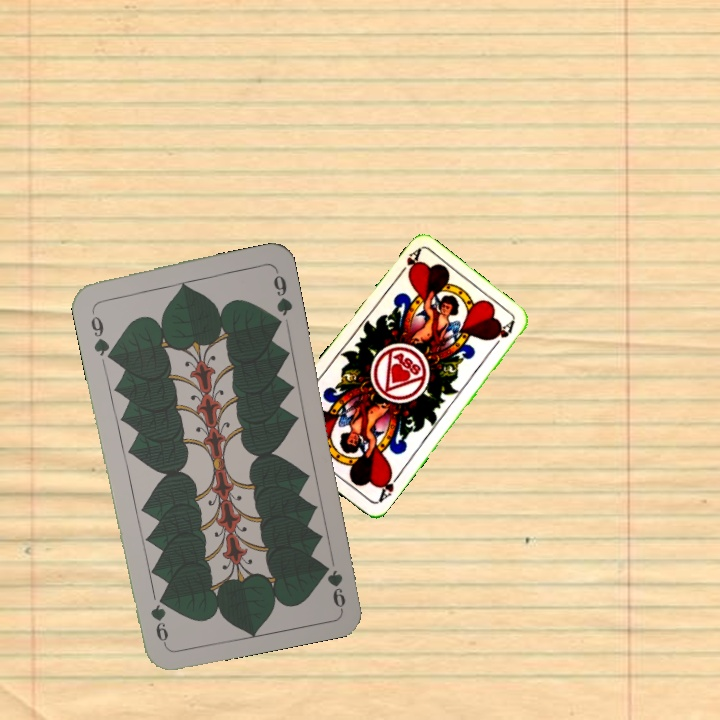G9: (86, 304, 115, 361), (319, 559, 348, 611)
HA: (374, 468, 403, 506), (393, 245, 423, 280)
